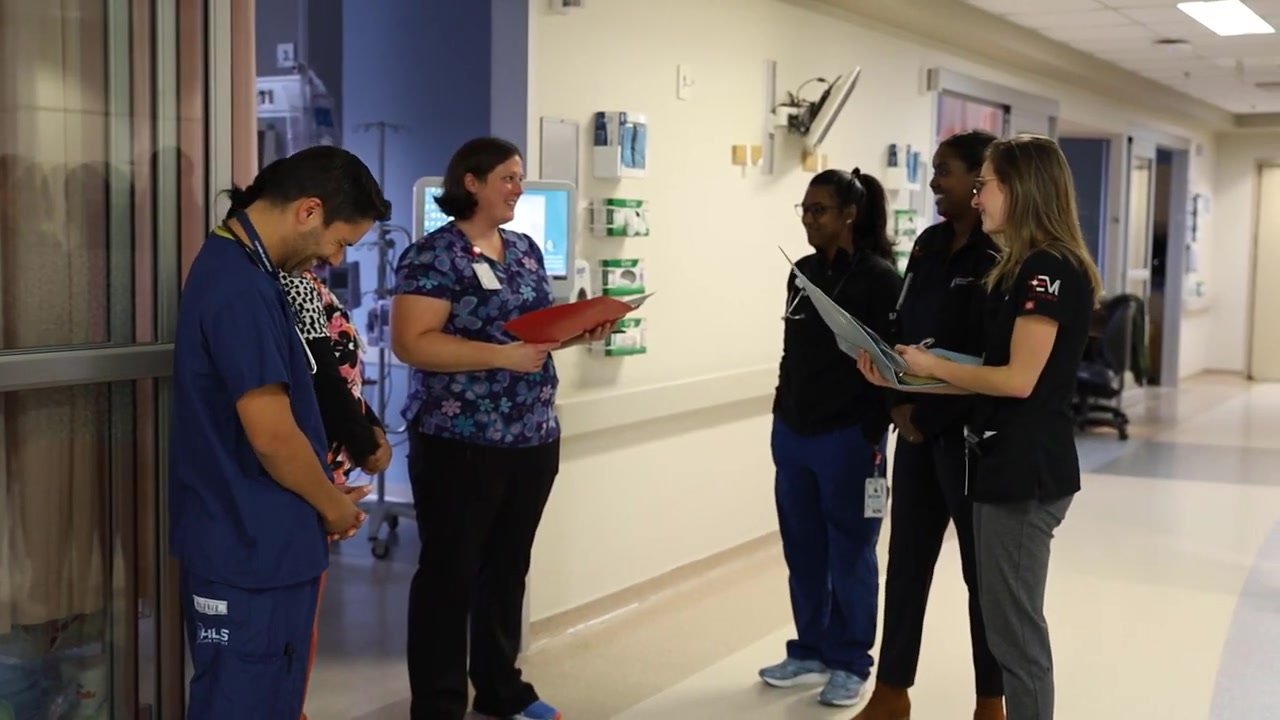TV: (802, 62, 867, 146)
chair: (1077, 301, 1138, 439)
computer: (410, 177, 575, 298)
dispenser: (591, 110, 647, 177), (594, 197, 649, 237), (592, 317, 647, 357), (592, 258, 645, 295), (555, 259, 591, 304)
iv_pole: (351, 120, 416, 559)
staff: (857, 132, 1103, 720), (389, 136, 623, 720), (170, 145, 392, 720), (225, 158, 393, 720), (848, 130, 1005, 720), (758, 166, 903, 707)
